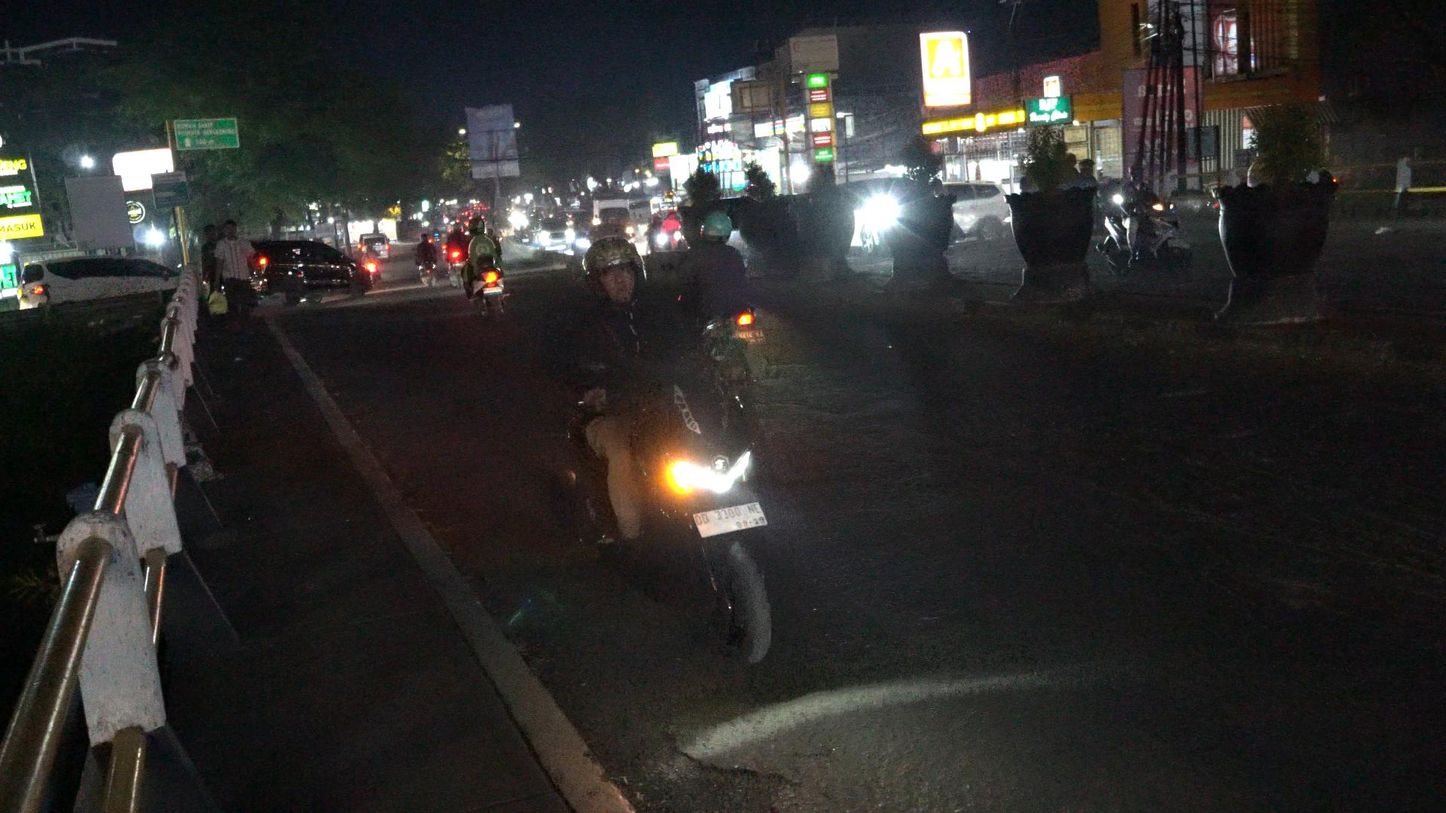number-plate: (687, 496, 770, 535)
